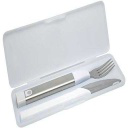fork: (14, 61, 124, 79)
